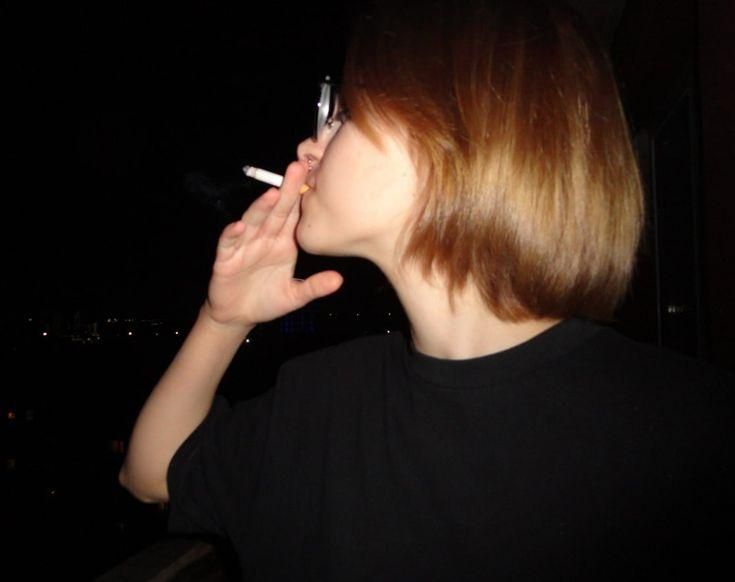cigarette: (242, 166, 312, 194)
